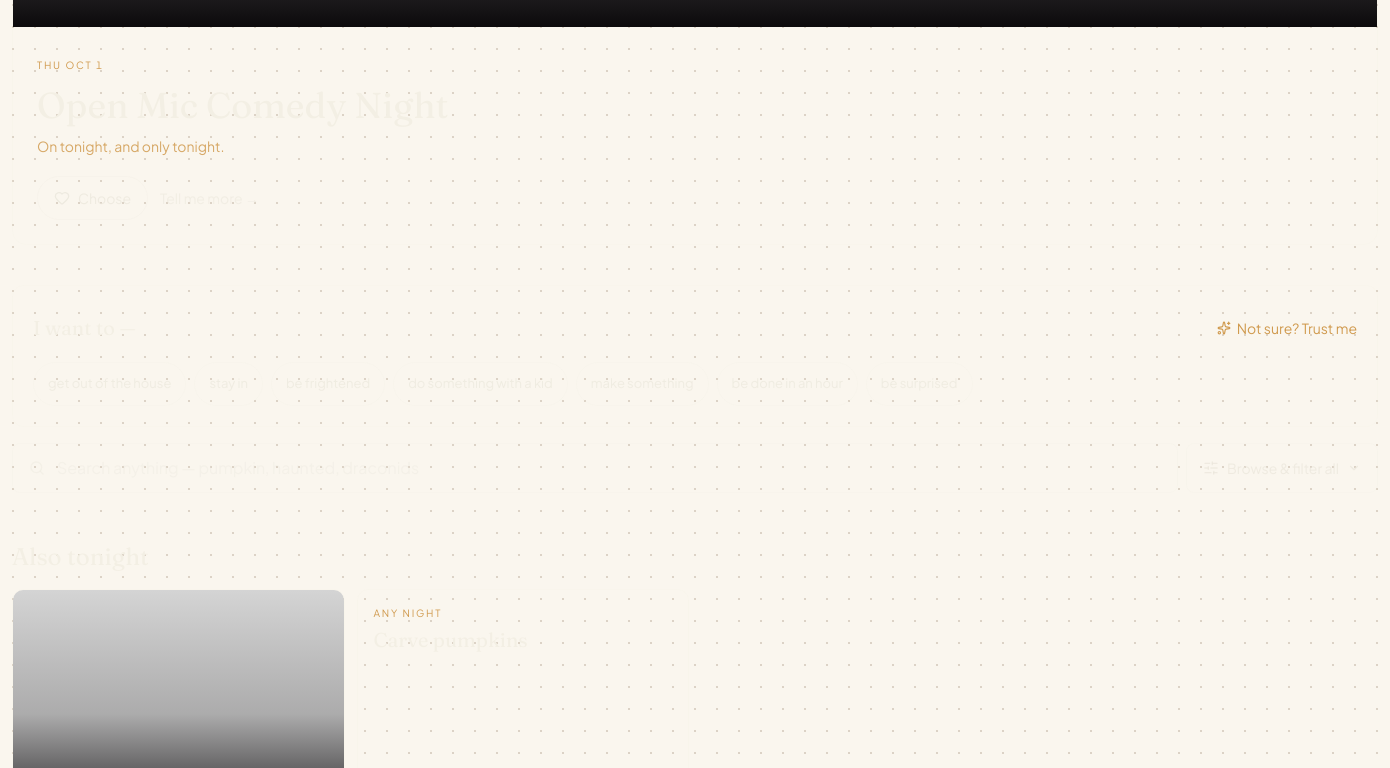
Test: a Choice means the same thing everywhere › survives choosing — the wish is still on the page afterwards
The image size is (1390, 768).
(page scrolled)
Click the button "make something": (642, 384) x1=576 y1=362 x2=709 y2=406
(page scrolled)
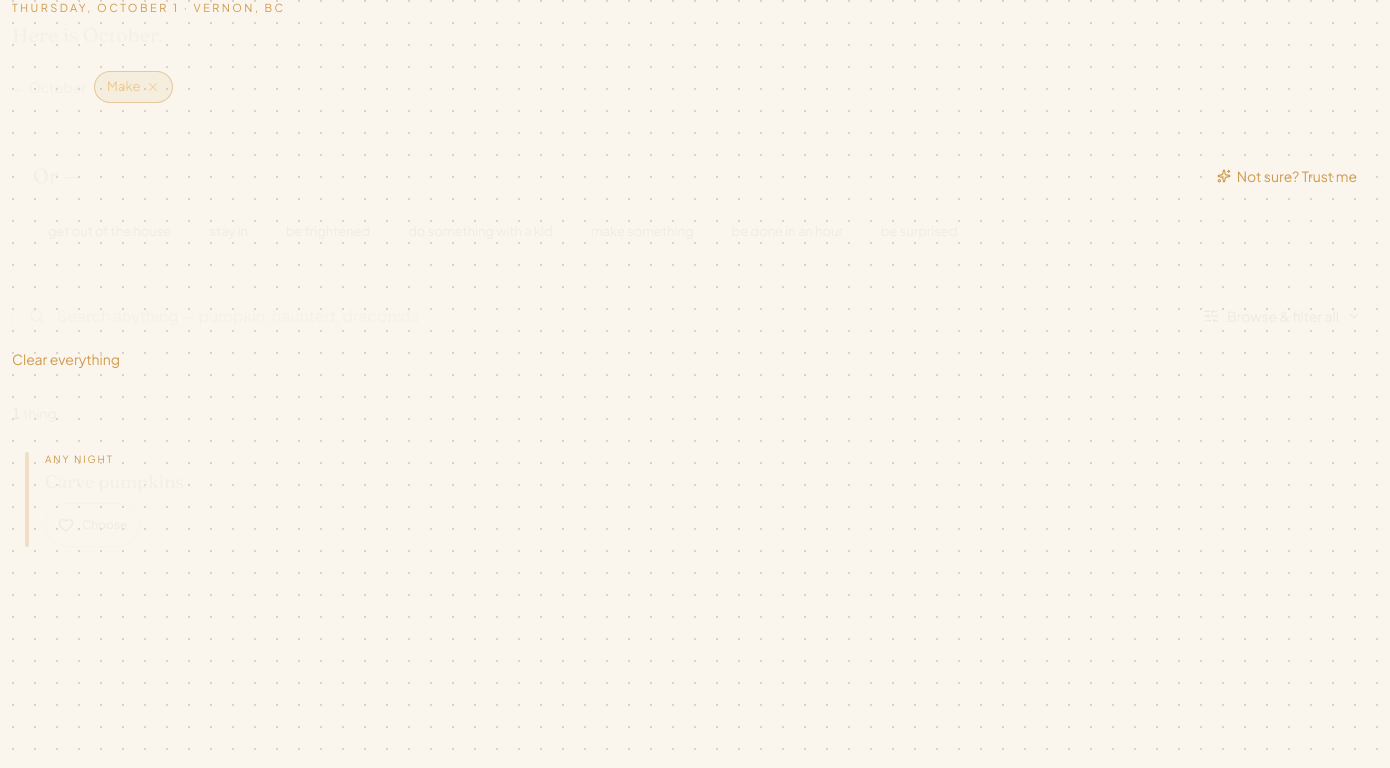
Click the button "Choose": (93, 525) x1=45 y1=503 x2=140 y2=547
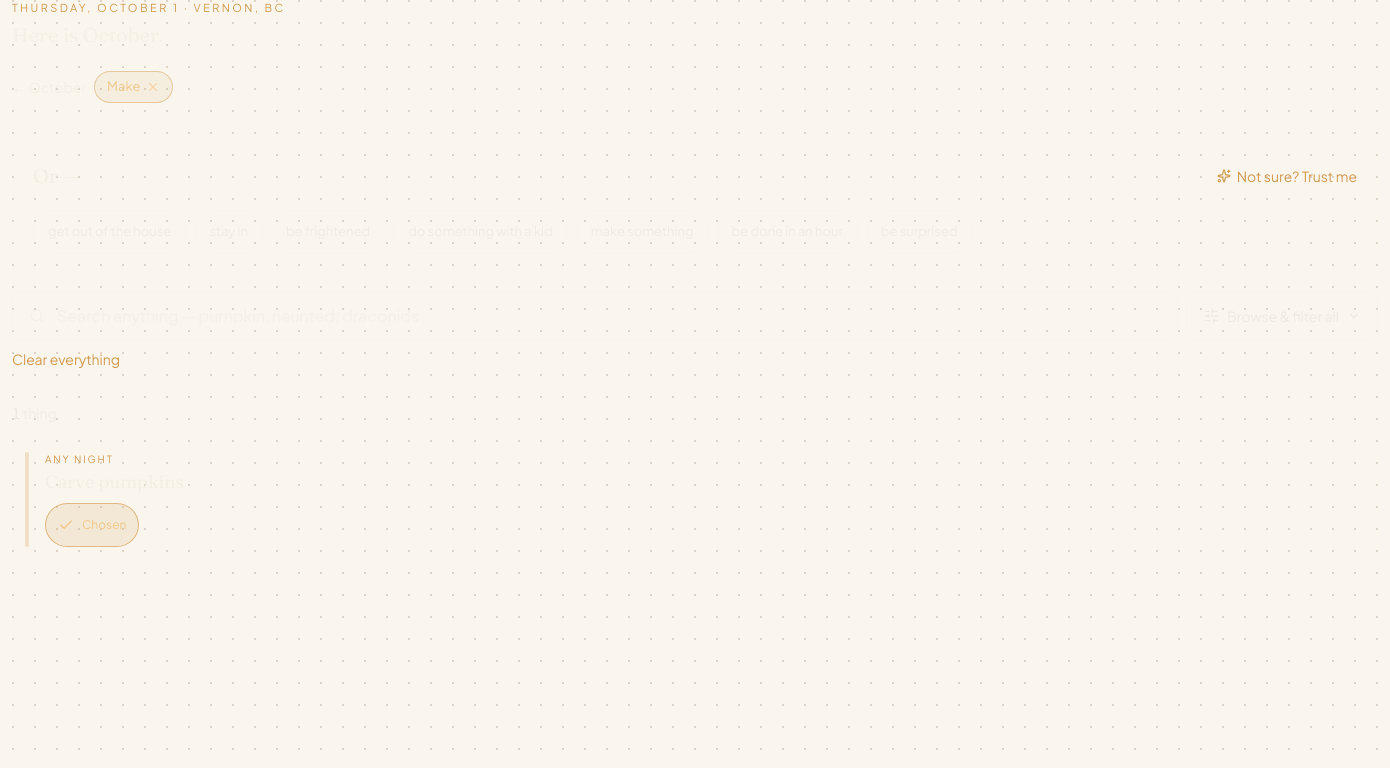
Expected: the button "Chosen" is shown, x1=45 y1=503 x2=140 y2=547
